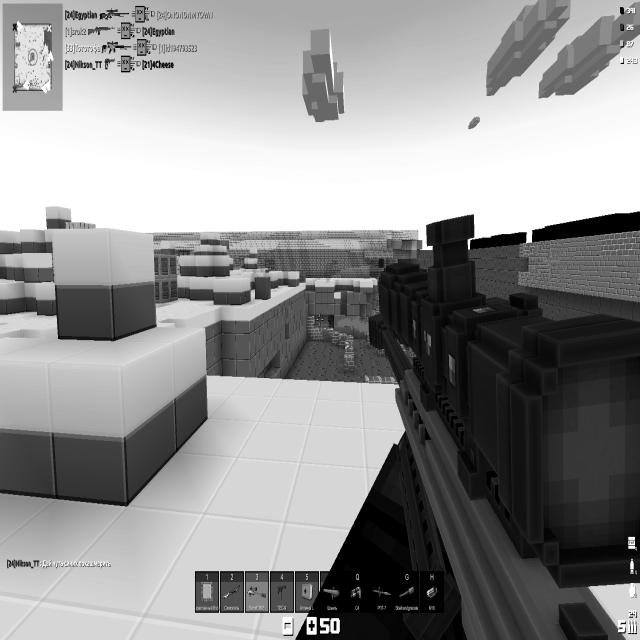Head: (0, 323, 208, 505), (52, 227, 156, 340), (328, 315, 333, 319)
Player: (328, 315, 334, 328)
